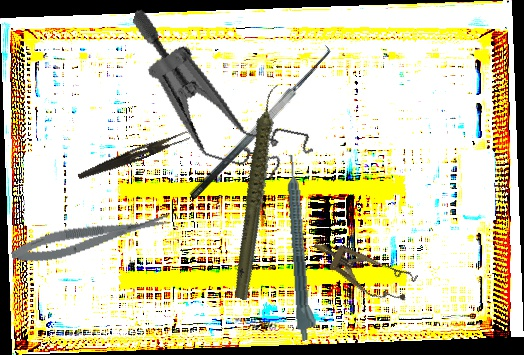Dressing Forceps: (76, 126, 191, 186)
Handpiece: (191, 82, 327, 302), (285, 153, 319, 342)
Micro Scissor: (8, 207, 174, 269)
Spatula Surgical: (176, 38, 340, 202)
Speculum: (100, 7, 338, 190), (305, 227, 419, 311)
